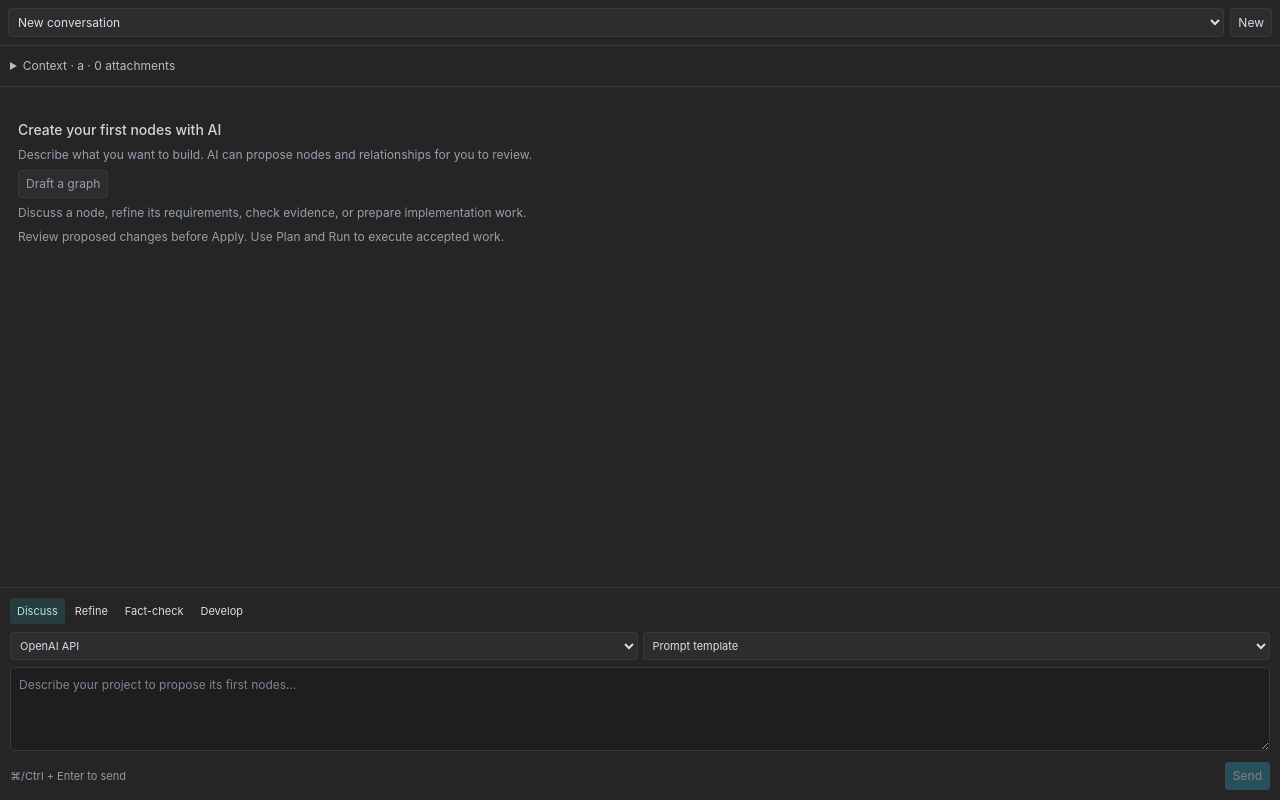
Test case: AI chat › stops an active response and retains the saved stopped state
Type "Discuss this node" into the text box named "Message AI" at (640, 709), box [10,667,1270,751]
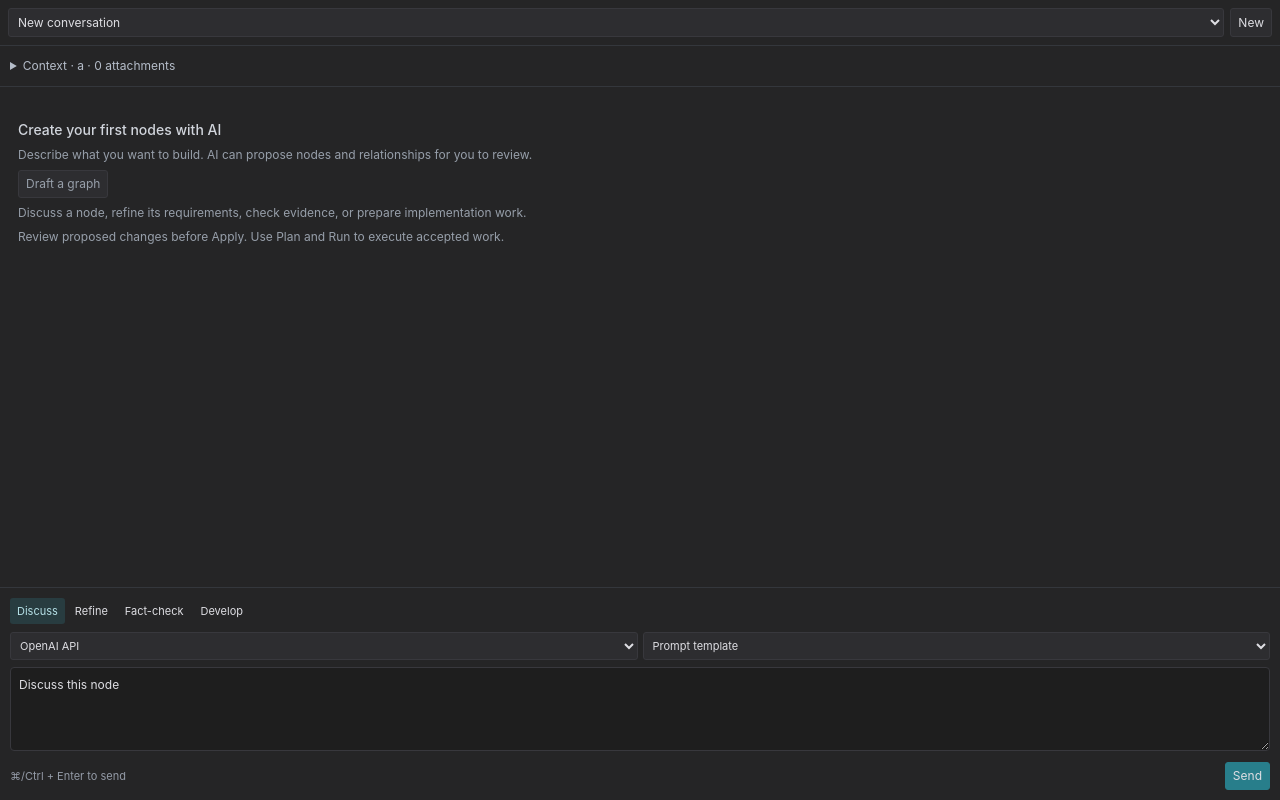
Click the button "Send" at (1247, 776), box [1225,762,1270,790]
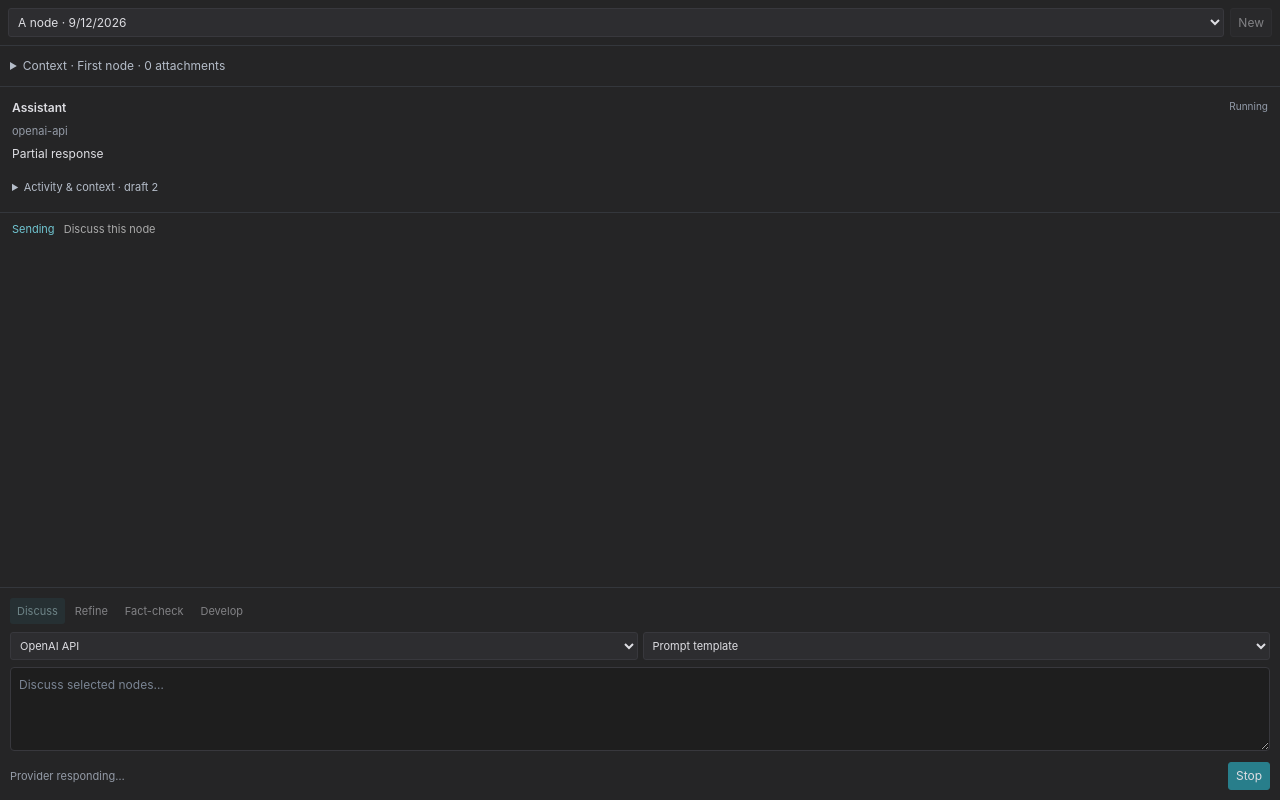
Result: the text "Partial response" is shown at [12,146,104,160]
Click the button "Stop" at (1249, 776), box [1228,762,1270,790]
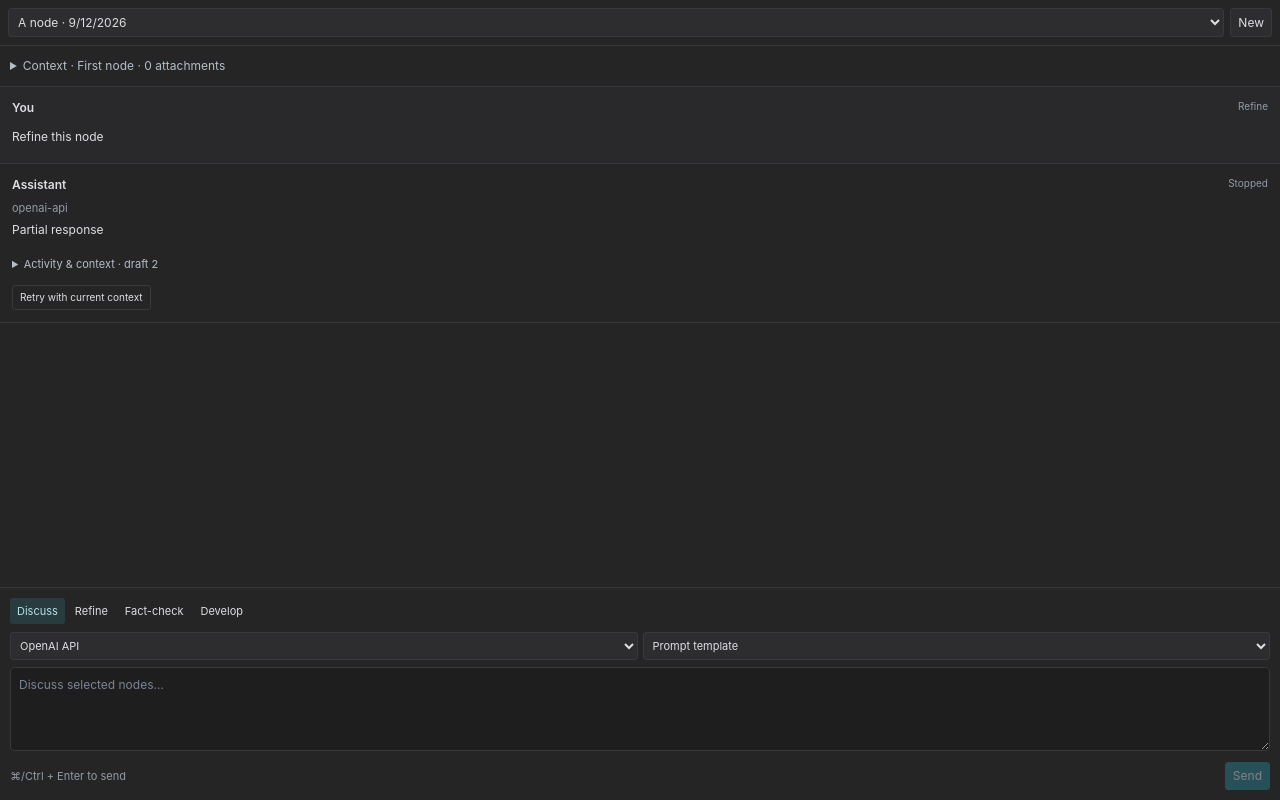
Result: the text "stopped" is shown at [1228,176,1268,194]
